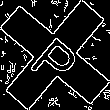P_NE: (25, 24, 85, 86)
